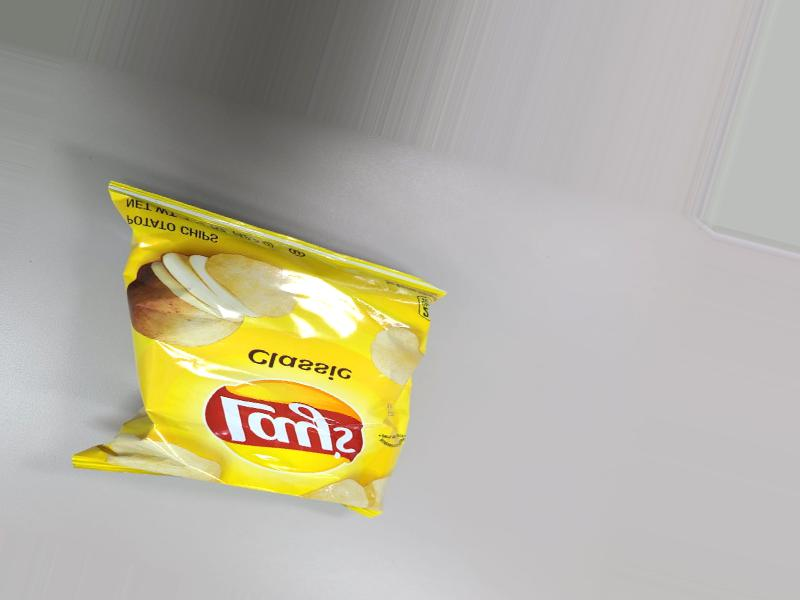lays: (77, 209, 420, 512)
